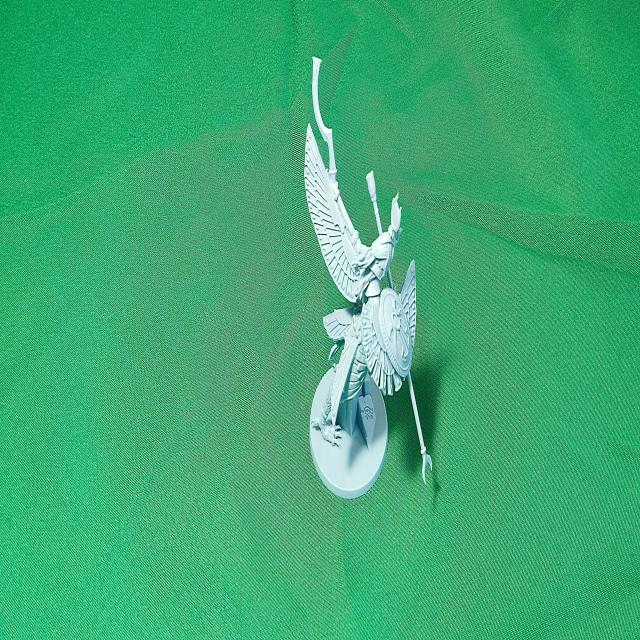isis: (286, 5, 448, 640)
